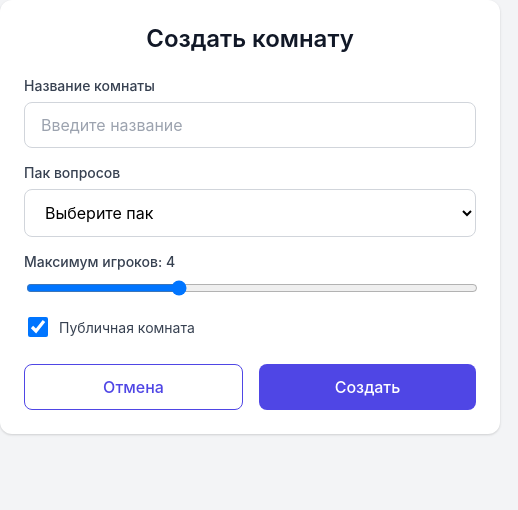
Test case: CreateRoomForm › показывает ошибку когда пак не выбран
Type "Моя комната" into the field with placeholder "Введите название".
click(250, 125); type("Моя комната")  # box [24,102,476,148]
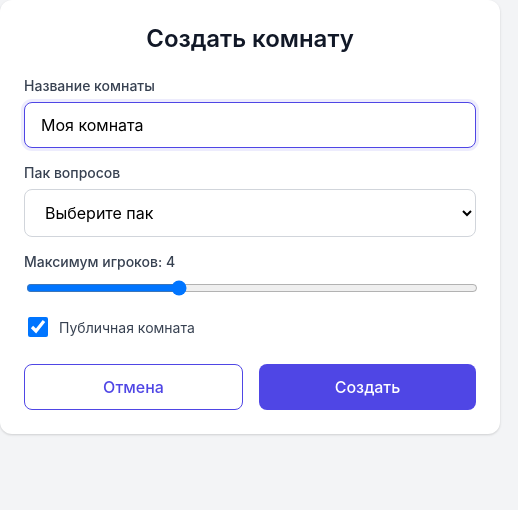
Click the button "Создать".
click(368, 387)  # box [259,364,476,410]
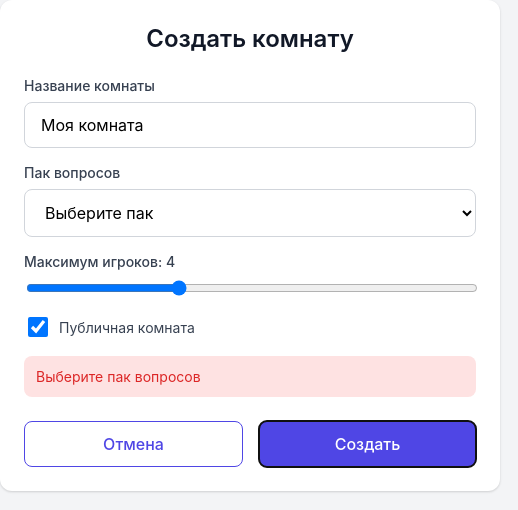
Now the text "Выберите пак вопросов" is shown, box [24,356,476,397]
